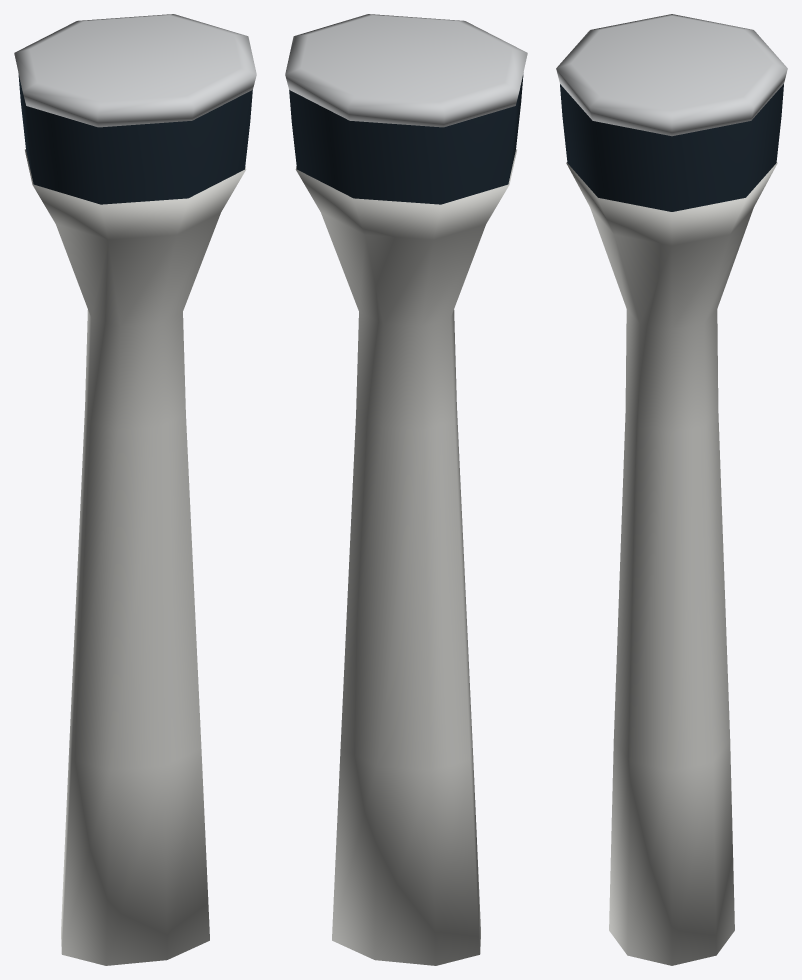
Rendered from sfo-tower_lod2.glb.
3 views of the same model, side by side, from view 1: azimuth 30°, elevation 25°; view 2: azimuth 150°, elevation 25°; view 3: azimuth 270°, elevation 25° (orthographic).
Parts seen in each view (by area): view 1: sfo-tower_lod2_tower_shaft, sfo-tower_lod2_tower_flare, sfo-tower_lod2_tower_glass; view 2: sfo-tower_lod2_tower_shaft, sfo-tower_lod2_tower_flare, sfo-tower_lod2_tower_glass; view 3: sfo-tower_lod2_tower_shaft, sfo-tower_lod2_tower_flare, sfo-tower_lod2_tower_glass.
Part boxes in pixels (box(x1,y1,x2,y2)): sfo-tower_lod2_tower_shaft: box(25, 149, 246, 965); sfo-tower_lod2_tower_flare: box(14, 14, 256, 127); sfo-tower_lod2_tower_glass: box(18, 74, 252, 204); sfo-tower_lod2_tower_shaft: box(295, 149, 516, 965); sfo-tower_lod2_tower_flare: box(285, 14, 527, 127); sfo-tower_lod2_tower_glass: box(289, 74, 523, 204); sfo-tower_lod2_tower_shaft: box(566, 162, 777, 965); sfo-tower_lod2_tower_flare: box(556, 14, 787, 136); sfo-tower_lod2_tower_glass: box(560, 84, 783, 211).
Size of the model in its own units: 18.4 by 68.36 by 16.56.
